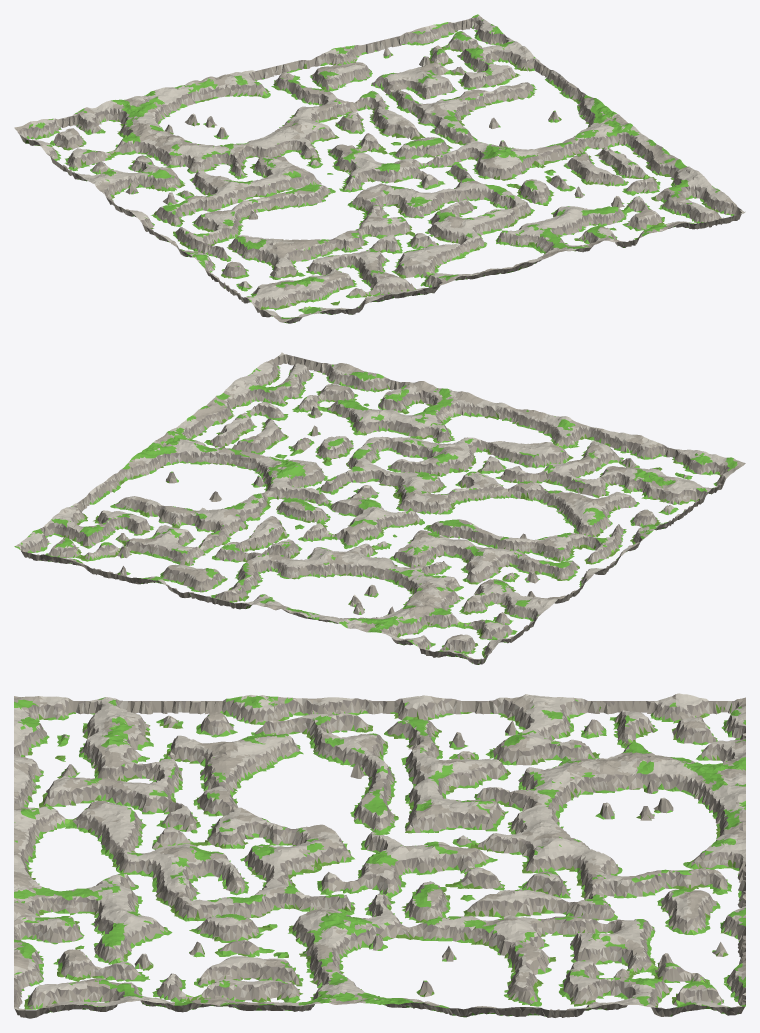
File: Dungeon-1D-Relief.fbx
3 views of the same model, one above another, from view 1: azimuth 30°, elevation 25°; view 2: azimuth 150°, elevation 25°; view 3: azimuth 270°, elevation 25° (orthographic). The views are drawn at different scales.
Visible parts, largest first — view 1: Dungeon-1D-Relief-c76, Dungeon-1D-Relief-c53, Dungeon-1D-Relief-c70, Dungeon-1D-Relief-c16, Dungeon-1D-Relief-c17, Dungeon-1D-Relief-c20, Dungeon-1D-Relief-c77, Dungeon-1D-Relief-c73, Dungeon-1D-Relief-c72, Dungeon-1D-Relief-c25, Dungeon-1D-Relief-c71, Dungeon-1D-Relief-c35 (+49 smaller); view 2: Dungeon-1D-Relief-c21, Dungeon-1D-Relief-c71, Dungeon-1D-Relief-c24, Dungeon-1D-Relief-c16, Dungeon-1D-Relief-c73, Dungeon-1D-Relief-c20, Dungeon-1D-Relief-c31, Dungeon-1D-Relief-c01, Dungeon-1D-Relief-c25, Dungeon-1D-Relief-c77, Dungeon-1D-Relief-c14, Dungeon-1D-Relief-c41 (+48 smaller); view 3: Dungeon-1D-Relief-c50, Dungeon-1D-Relief-c55, Dungeon-1D-Relief-c54, Dungeon-1D-Relief-c41, Dungeon-1D-Relief-c52, Dungeon-1D-Relief-c12, Dungeon-1D-Relief-c03, Dungeon-1D-Relief-c07, Dungeon-1D-Relief-c35, Dungeon-1D-Relief-c44, Dungeon-1D-Relief-c00, Dungeon-1D-Relief-c02 (+50 smaller).
Part boxes in pixels (box(x1,y1,x2,y2)): Dungeon-1D-Relief-c76: box(463, 39, 544, 86); Dungeon-1D-Relief-c53: box(437, 144, 525, 180); Dungeon-1D-Relief-c70: box(659, 186, 745, 229); Dungeon-1D-Relief-c16: box(113, 124, 196, 171); Dungeon-1D-Relief-c17: box(71, 98, 160, 137); Dungeon-1D-Relief-c20: box(365, 257, 455, 298); Dungeon-1D-Relief-c77: box(420, 14, 510, 61); Dungeon-1D-Relief-c73: box(570, 111, 644, 159); Dungeon-1D-Relief-c72: box(590, 136, 678, 184); Dungeon-1D-Relief-c25: box(197, 139, 286, 179); Dungeon-1D-Relief-c71: box(621, 159, 711, 208); Dungeon-1D-Relief-c35: box(258, 119, 345, 163); Dungeon-1D-Relief-c21: box(504, 446, 595, 490); Dungeon-1D-Relief-c71: box(215, 375, 300, 420); Dungeon-1D-Relief-c24: box(407, 521, 494, 566); Dungeon-1D-Relief-c16: box(400, 580, 486, 628); Dungeon-1D-Relief-c73: box(148, 423, 237, 465); Dungeon-1D-Relief-c20: box(539, 419, 628, 468); Dungeon-1D-Relief-c31: box(448, 437, 537, 479); Dungeon-1D-Relief-c01: box(621, 474, 711, 521); Dungeon-1D-Relief-c25: box(372, 545, 451, 585); Dungeon-1D-Relief-c77: box(14, 523, 95, 565); Dungeon-1D-Relief-c14: box(463, 535, 554, 580); Dungeon-1D-Relief-c41: box(390, 417, 472, 460); Dungeon-1D-Relief-c50: box(14, 888, 106, 942); Dungeon-1D-Relief-c55: box(470, 890, 563, 942); Dungeon-1D-Relief-c54: box(379, 890, 472, 942); Dungeon-1D-Relief-c41: box(104, 848, 197, 903); Dungeon-1D-Relief-c52: box(196, 890, 288, 942); Dungeon-1D-Relief-c12: box(196, 735, 288, 788); Dungeon-1D-Relief-c03: box(287, 697, 380, 749); Dungeon-1D-Relief-c07: box(654, 693, 745, 749); Dungeon-1D-Relief-c35: box(470, 812, 563, 865); Dungeon-1D-Relief-c44: box(379, 849, 472, 903); Dungeon-1D-Relief-c00: box(14, 696, 106, 749); Dungeon-1D-Relief-c02: box(196, 695, 289, 737).
Bounding box in the file's own units: 88 × 2.83 × 88.
